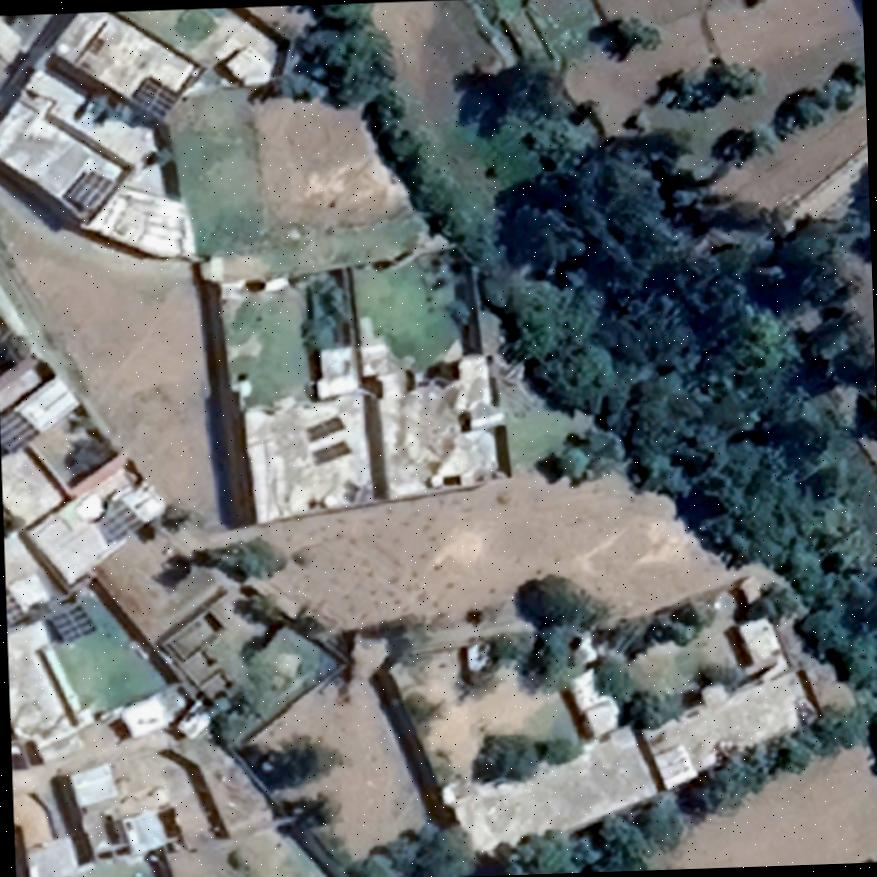Solarpanel: (92, 492, 149, 550), (130, 74, 180, 121), (64, 168, 114, 208), (49, 604, 95, 644), (298, 412, 351, 445), (0, 408, 38, 453), (306, 439, 353, 468)
